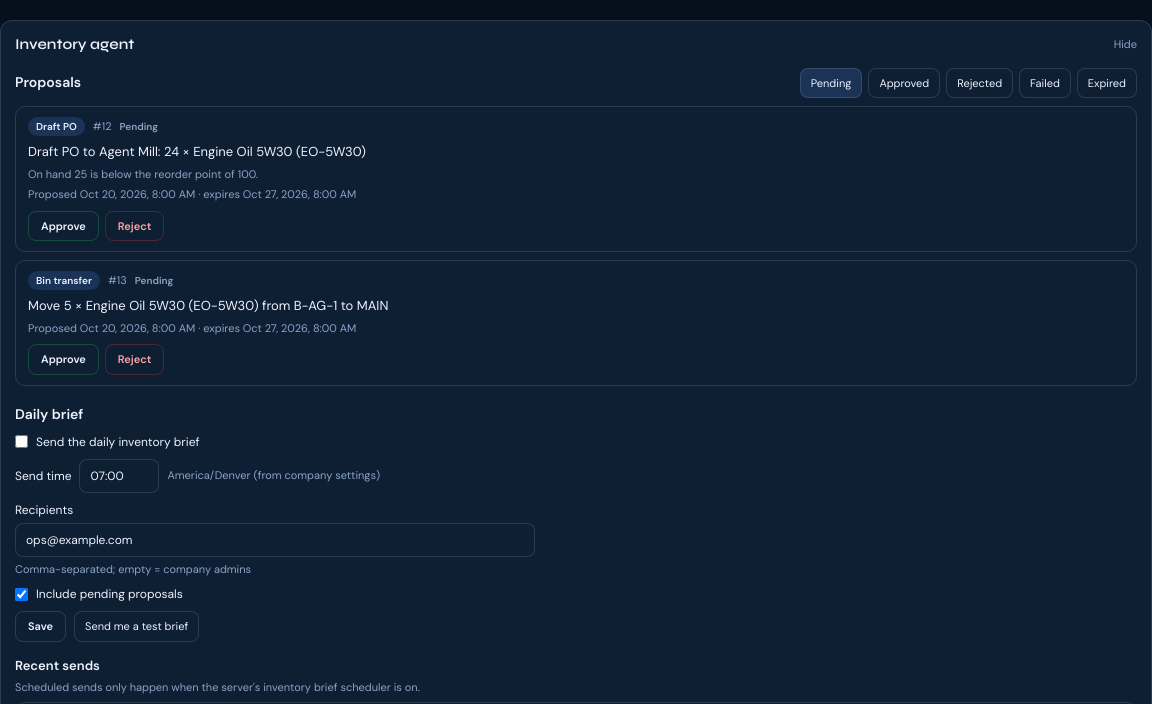
Test: InventoryAgentPanel › approve confirms, posts, and the card shows approved with the RO link
Click the button "Approve" below "12": (63, 226) [28, 210, 99, 241]
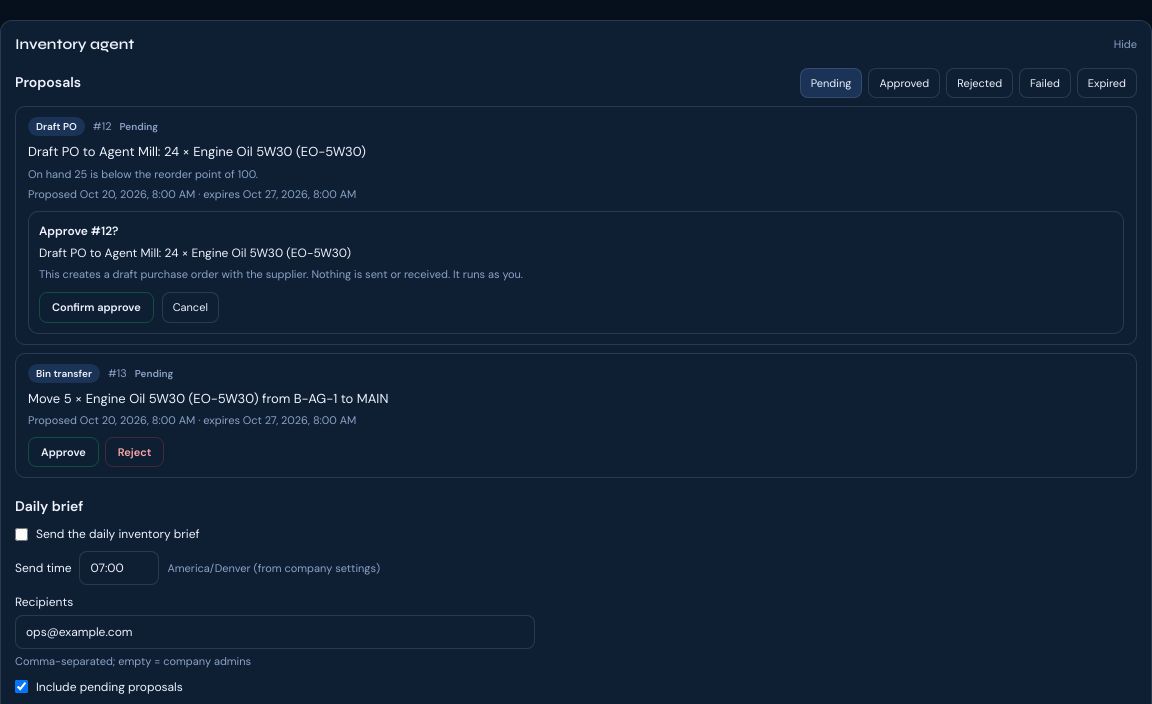
Check: the dialog named "Approve proposal" shows "Draft PO to Agent Mill: 24 × Engine Oil 5W30 (EO-5W30)", box [39, 244, 351, 260]
Check: the dialog named "Approve proposal" shows "creates a draft purchase order", box [39, 266, 450, 280]
Click the button "Confirm approve": (96, 307) [39, 292, 154, 322]
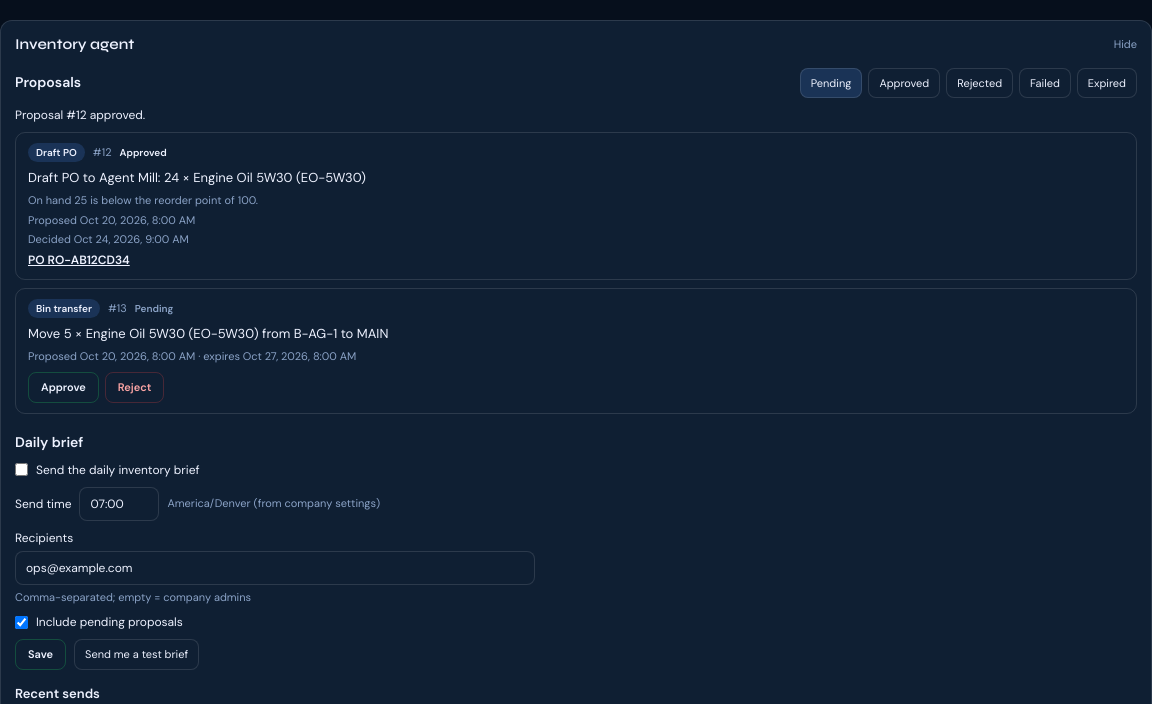
Check: the text "Proposal #12 approved." is shown, box [15, 107, 145, 123]
Check: the link "PO RO-AB12CD34" is shown, box [28, 252, 130, 268]
